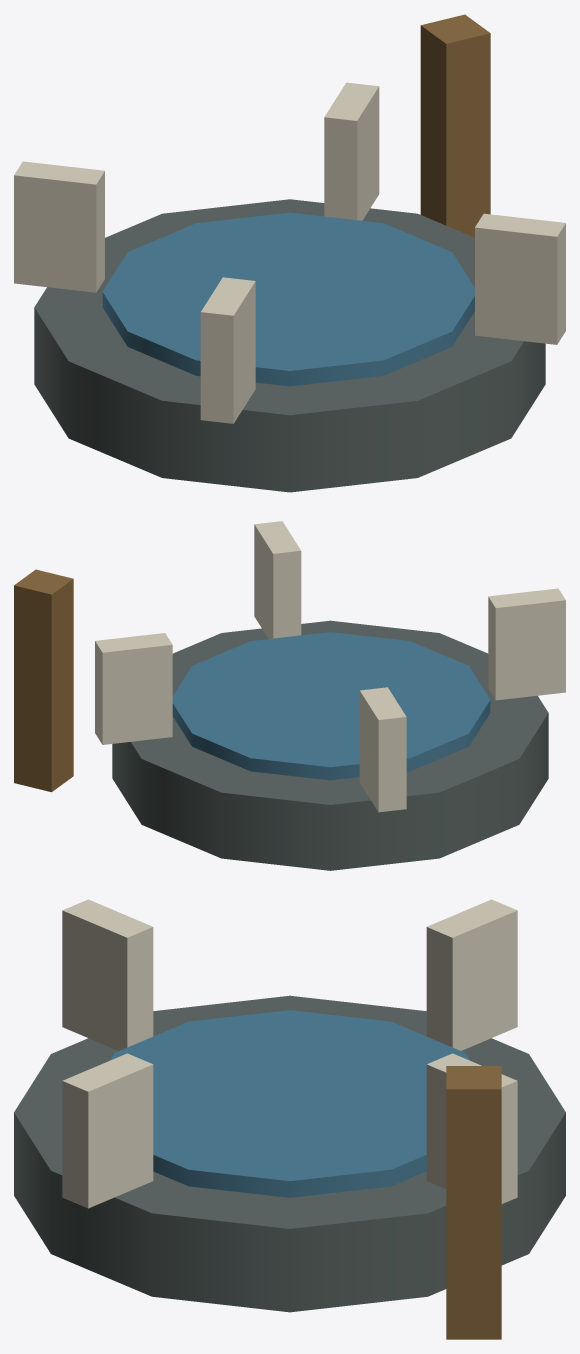
File: imp_ling_quan_xiu_shan.glb
3 renders of one model, top to bottom at view 1: azimuth 30°, elevation 25°; view 2: azimuth 150°, elevation 25°; view 3: azimuth 270°, elevation 25°, orthographic. The views are drawn at different scales.
Parts seen in each view (by area): view 1: _MeshInstance3D_255, _MeshInstance3D_256, _MeshInstance3D_261, _MeshInstance3D_259, _MeshInstance3D_257, _MeshInstance3D_258, _MeshInstance3D_260; view 2: _MeshInstance3D_255, _MeshInstance3D_256, _MeshInstance3D_261, _MeshInstance3D_258, _MeshInstance3D_260, _MeshInstance3D_259, _MeshInstance3D_257; view 3: _MeshInstance3D_255, _MeshInstance3D_256, _MeshInstance3D_261, _MeshInstance3D_257, _MeshInstance3D_258, _MeshInstance3D_259, _MeshInstance3D_260.
Boxes of the visible parts, x1,y1,x2,y2 form: _MeshInstance3D_255: (34,199,545,492); _MeshInstance3D_256: (102,212,474,386); _MeshInstance3D_261: (420,14,490,237); _MeshInstance3D_259: (14,161,104,292); _MeshInstance3D_257: (475,213,565,344); _MeshInstance3D_258: (200,277,255,423); _MeshInstance3D_260: (324,82,379,220); _MeshInstance3D_255: (112,620,548,870); _MeshInstance3D_256: (172,632,490,780); _MeshInstance3D_261: (14,569,73,792); _MeshInstance3D_258: (488,588,565,700); _MeshInstance3D_260: (95,633,172,744); _MeshInstance3D_259: (359,687,406,812); _MeshInstance3D_257: (254,521,301,638); _MeshInstance3D_255: (14,995,565,1312); _MeshInstance3D_256: (110,1010,469,1197); _MeshInstance3D_261: (446,1066,501,1339); _MeshInstance3D_257: (62,1053,153,1208); _MeshInstance3D_258: (62,899,153,1050); _MeshInstance3D_259: (426,899,517,1050); _MeshInstance3D_260: (426,1053,517,1203).
Bounding box in the file's own units: 0.67 × 0.3 × 0.6.
